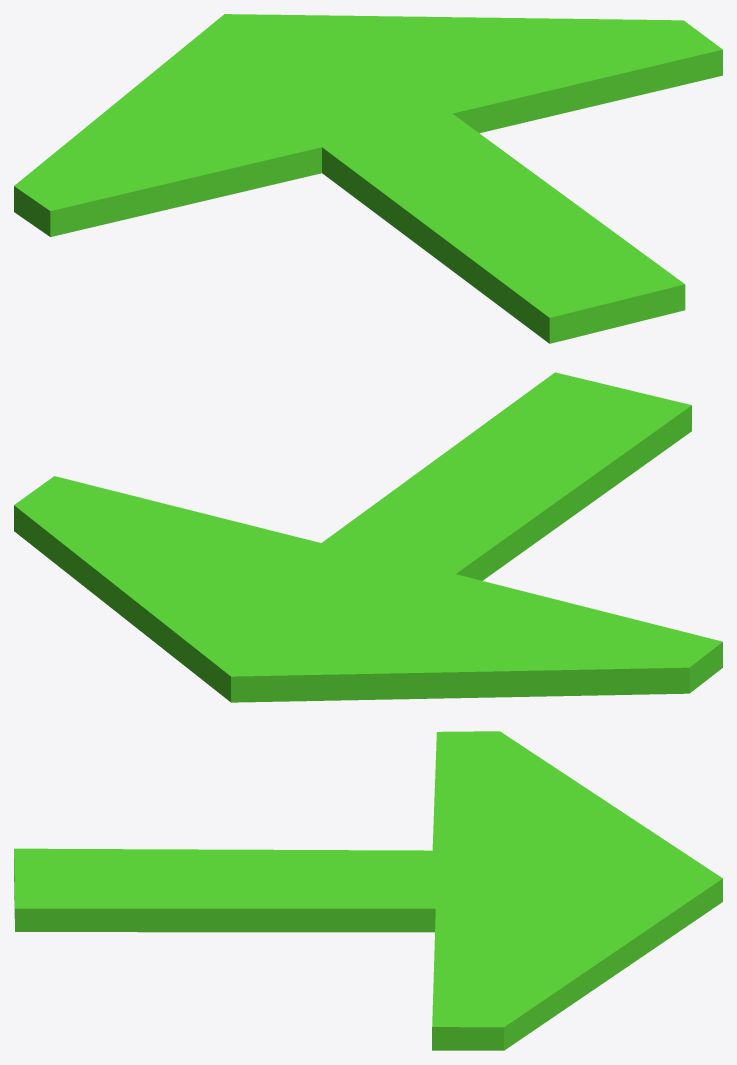
File: Стрелка.fbx_Collection.fbx
3 renders of one model, top to bottom at view 1: azimuth 30°, elevation 25°; view 2: azimuth 150°, elevation 25°; view 3: azimuth 270°, elevation 25°, orthographic. The views are drawn at different scales.
Parts seen in each view (by area): view 1: Плоскость; view 2: Плоскость; view 3: Плоскость.
Part boxes in pixels (x1,y1,x2,y2): Плоскость: (14,14,722,343); Плоскость: (14,372,722,702); Плоскость: (14,731,722,1050).
Bounding box in the file's own units: 100 × 3.71 × 102.
